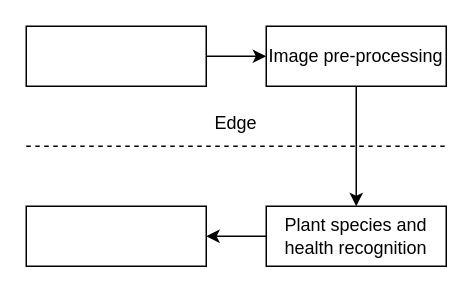
The diagram is 474 pixels wide and 293 high, and some of its shapes have lost their labels. The shapes that lost their labels are listed below. From the top down, each one's centre as x and y in pixels, then its label:
pixel 115 55: Image generation
pixel 115 235: Data visualization
